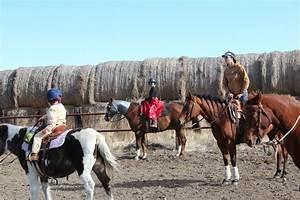horse: (177, 90, 288, 185), (0, 122, 121, 199), (103, 96, 195, 160), (243, 90, 299, 190)
